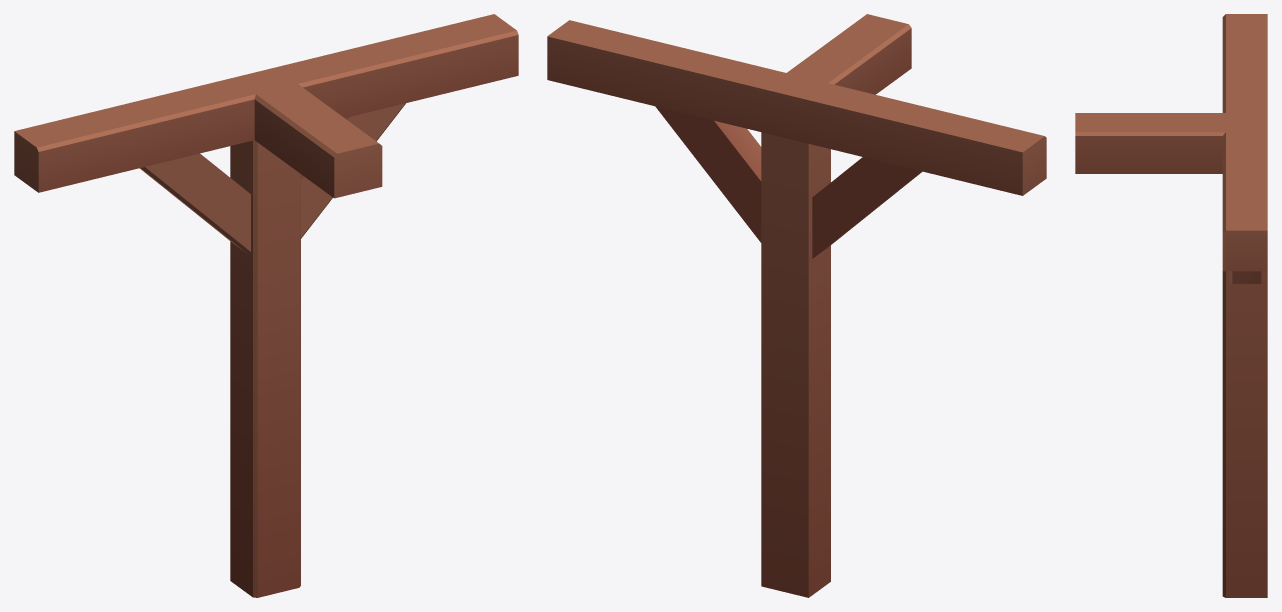
The model's file is scaffold_pillar_wall_cross.glb.
3 renders of one model, left to right at view 1: azimuth 30°, elevation 25°; view 2: azimuth 150°, elevation 25°; view 3: azimuth 270°, elevation 25°, orthographic. The views are drawn at different scales.
Visible parts, largest first — view 1: scaffold_pillar_wall_cross; view 2: scaffold_pillar_wall_cross; view 3: scaffold_pillar_wall_cross.
Part boxes in pixels (<box>): scaffold_pillar_wall_cross: <box>14,14,518,597</box>; scaffold_pillar_wall_cross: <box>547,14,1046,597</box>; scaffold_pillar_wall_cross: <box>1075,14,1267,597</box>.
Bounding box in the file's own units: 4 × 4 × 1.5.
Materials: 1 (1 with a texture image).
